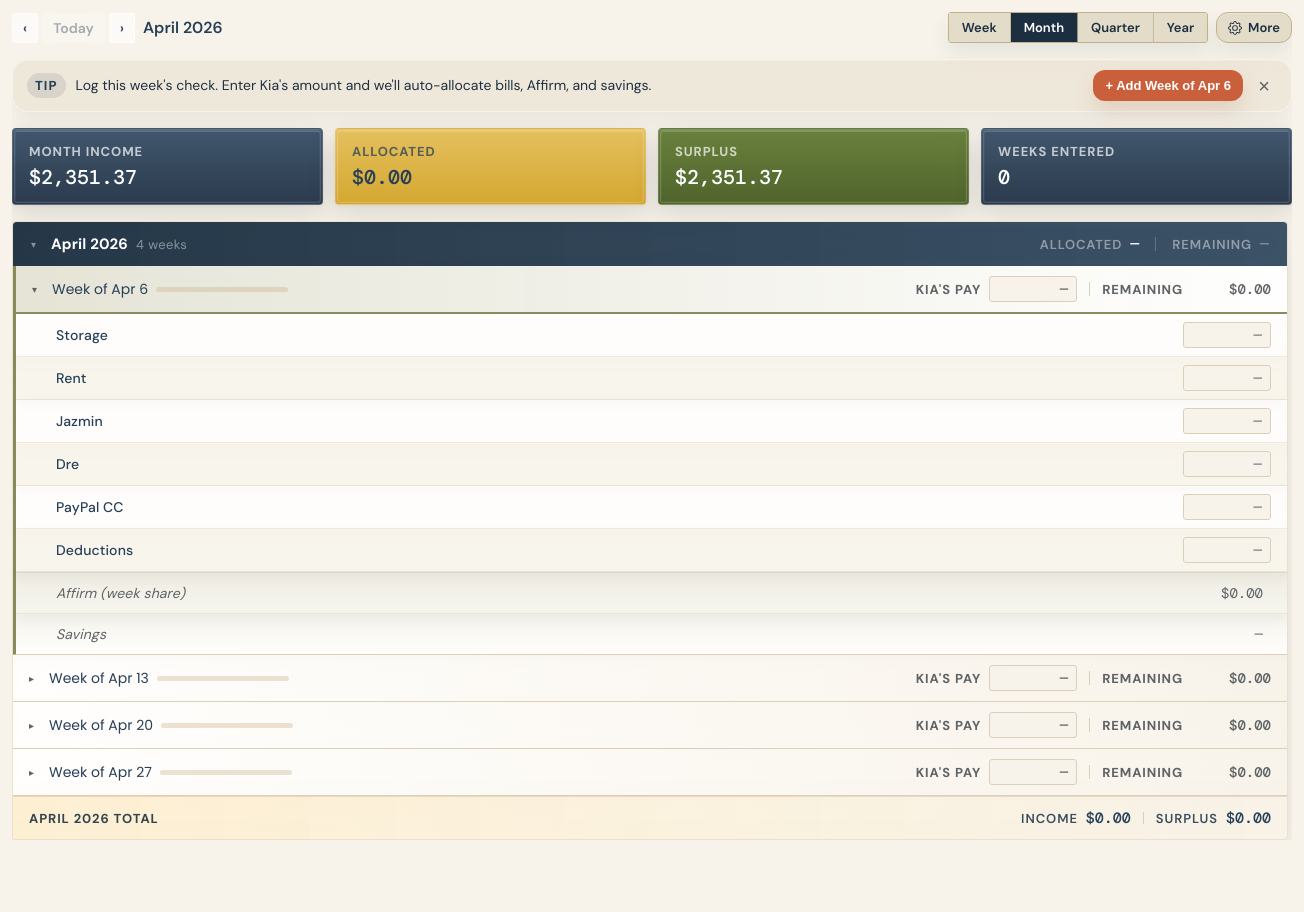
PaycheckTab — navigation › navigates to previous month (handleNavPrev monthly)
Click the button named "Previous month". click: (25,28)
box: [12,12,38,42]
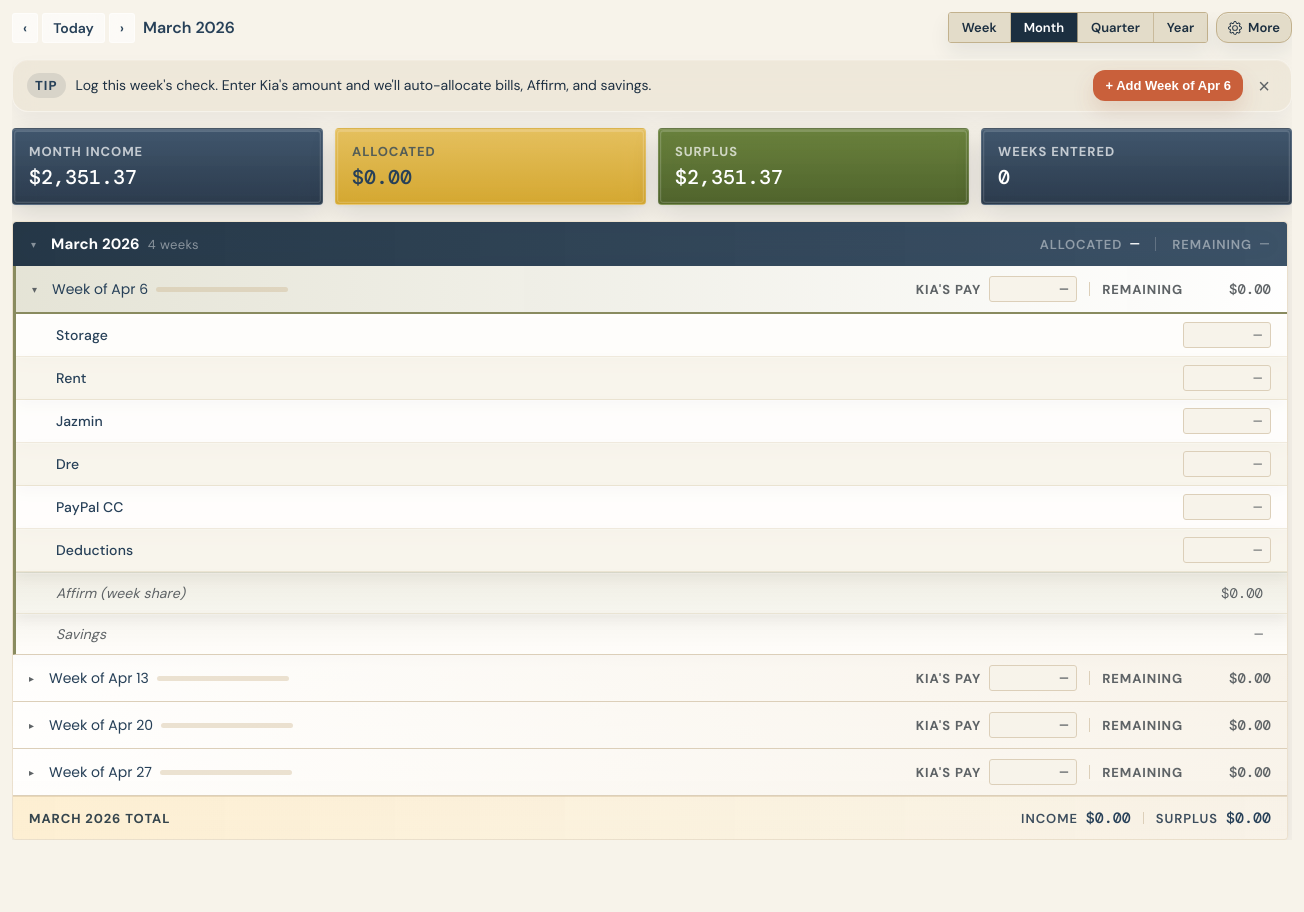
Now the heading "March 2026" is shown, box [143,17,235,38]
